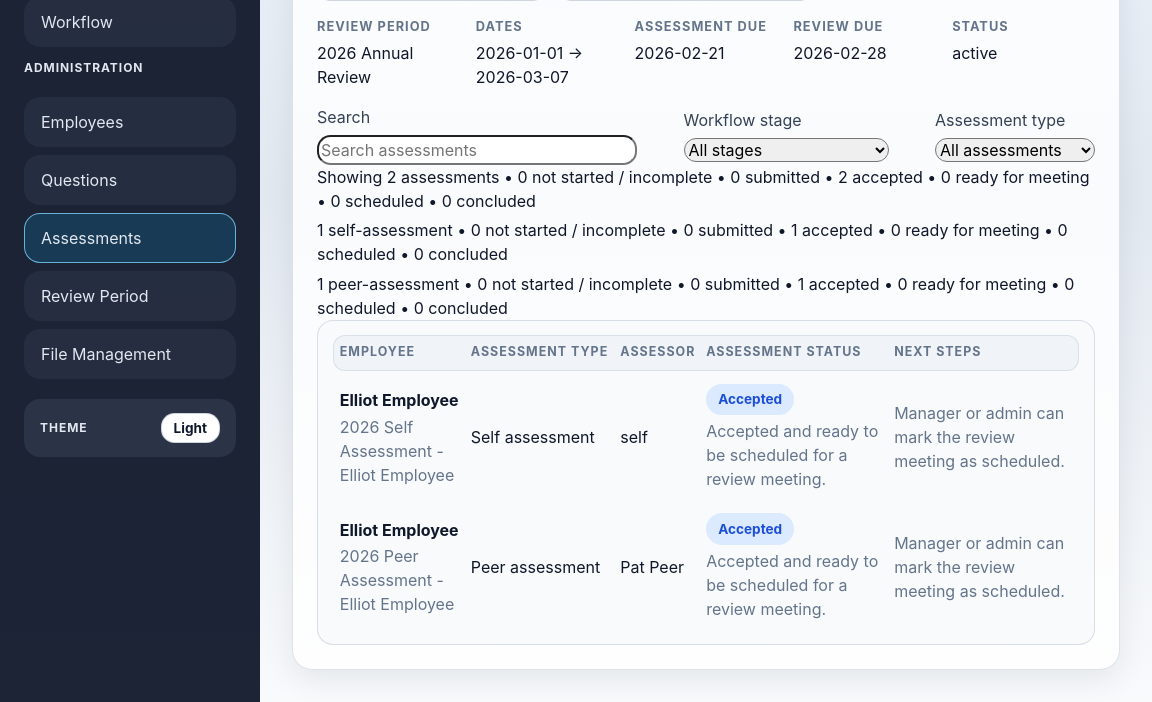
Scenario: workflow entry › opens accepted assessments from the row and lets admins delete them
(page scrolled)
Click the 1st button with class "assessment-row-card". click: click(706, 437)
box: [333, 374, 1079, 501]
(page scrolled)
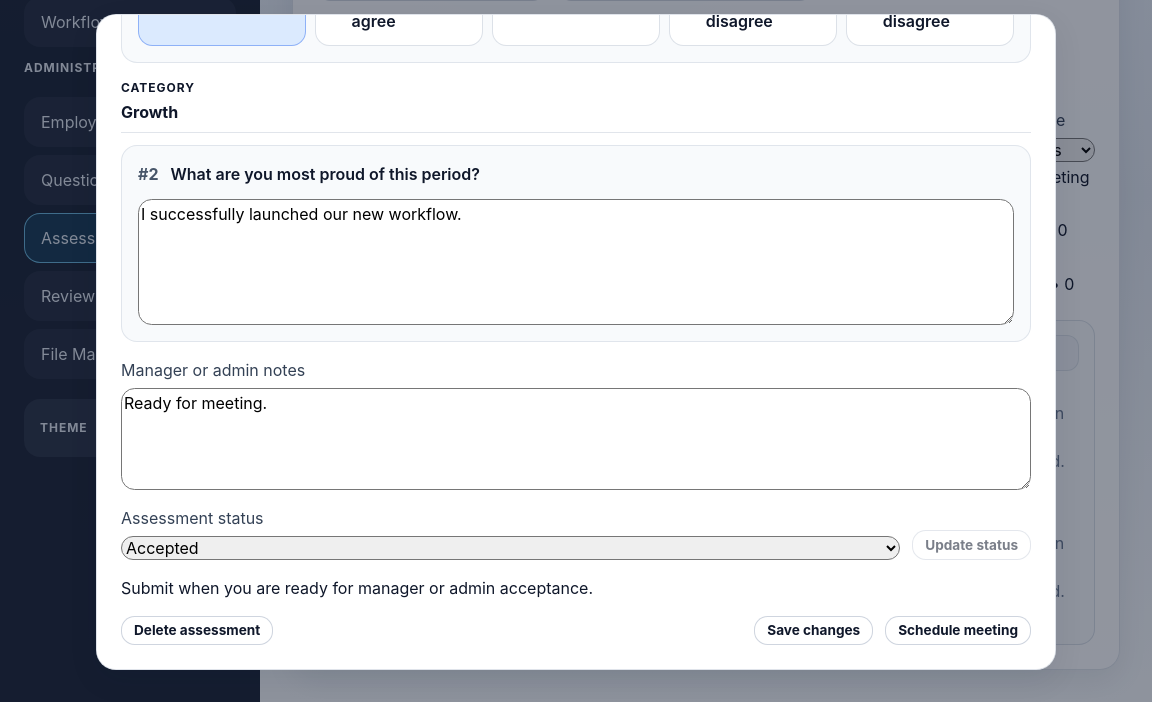
Expected: the text "Save changes" is shown, [754, 616, 873, 645]
Expected: the text "Schedule meeting" is shown, [885, 616, 1031, 645]
Expected: the text "Delete assessment" is shown
Click the button "Delete assessment". click: click(197, 630)
box: [121, 616, 273, 645]
(page scrolled)
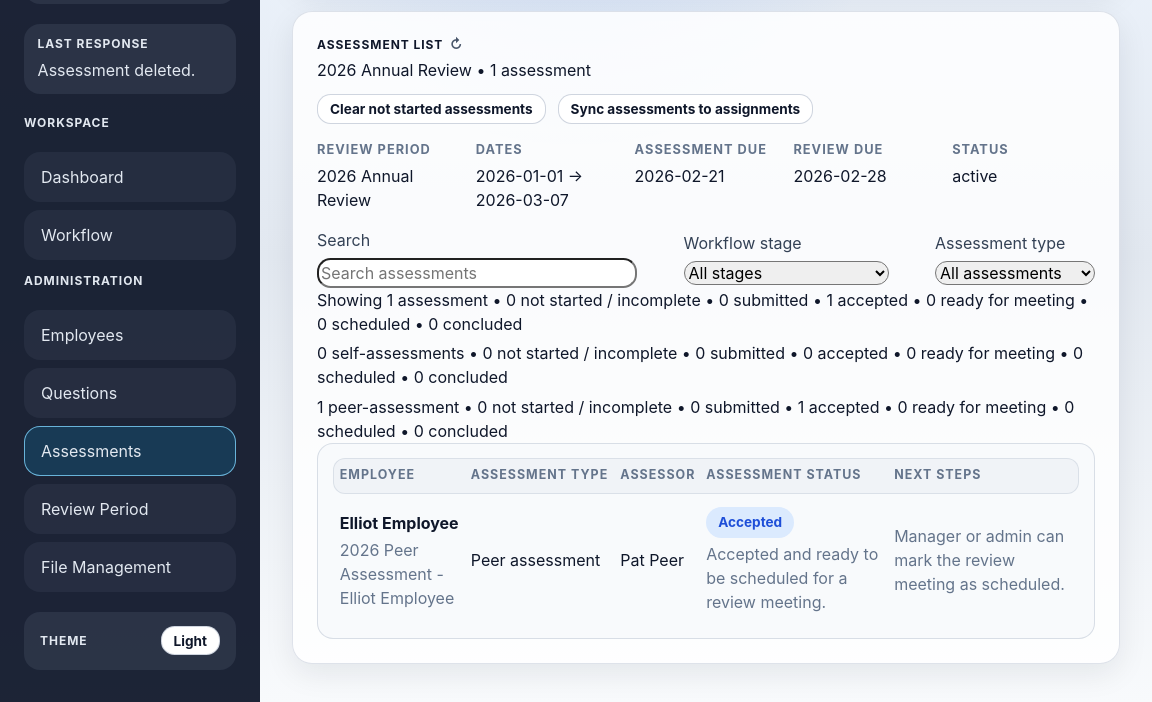
Expected: the number of buttons with class "assessment-row-card" is 1, [333, 497, 1079, 624]
